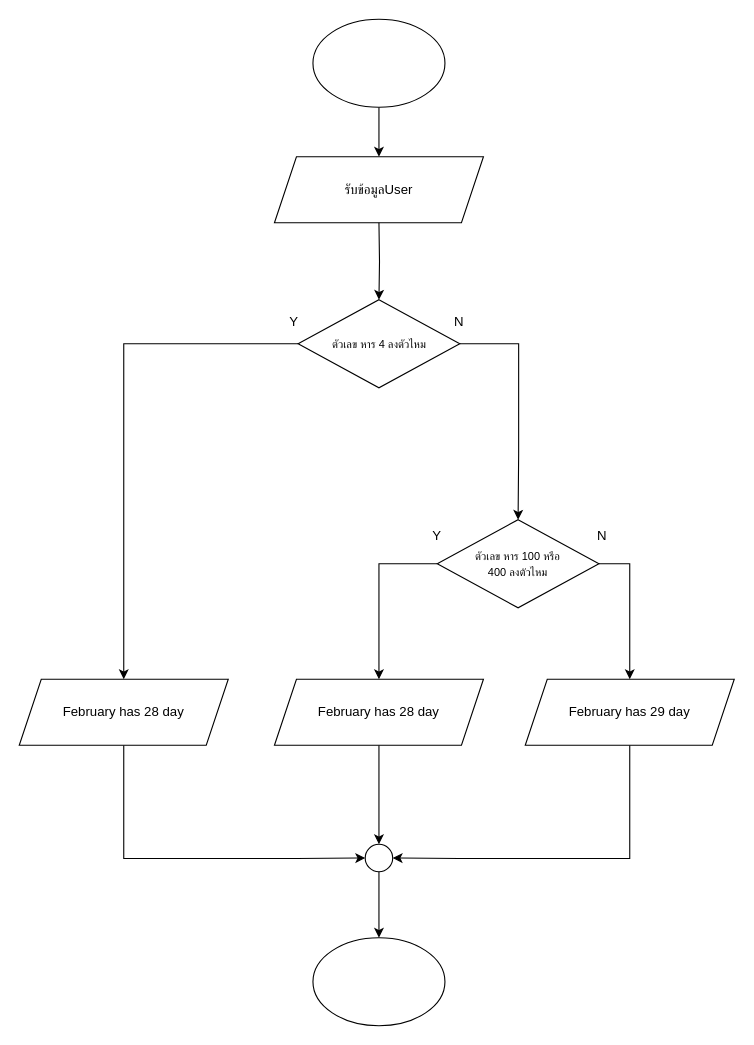
Image size: 754x1045. Some labels were removed from this diagram. The shapes that lost their labels are listed below. From the top down, each one's centre as x and y in pixels, then its label:
point (378, 62): Start
point (378, 981): END
